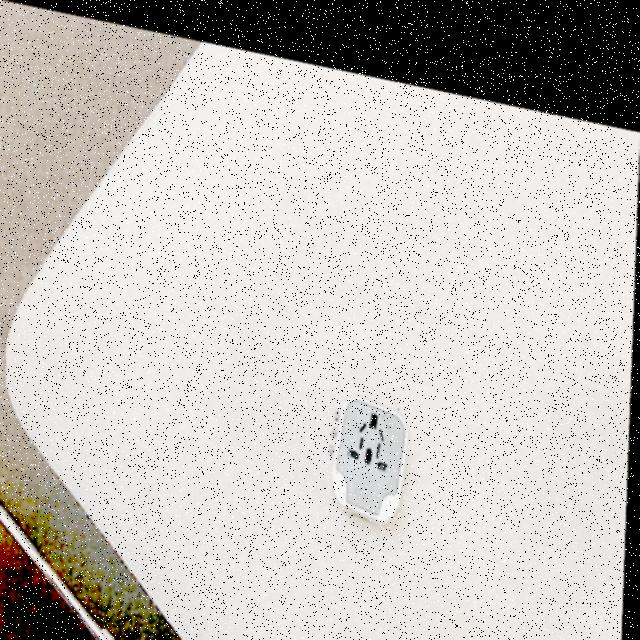adapter: (329, 373, 412, 512)
